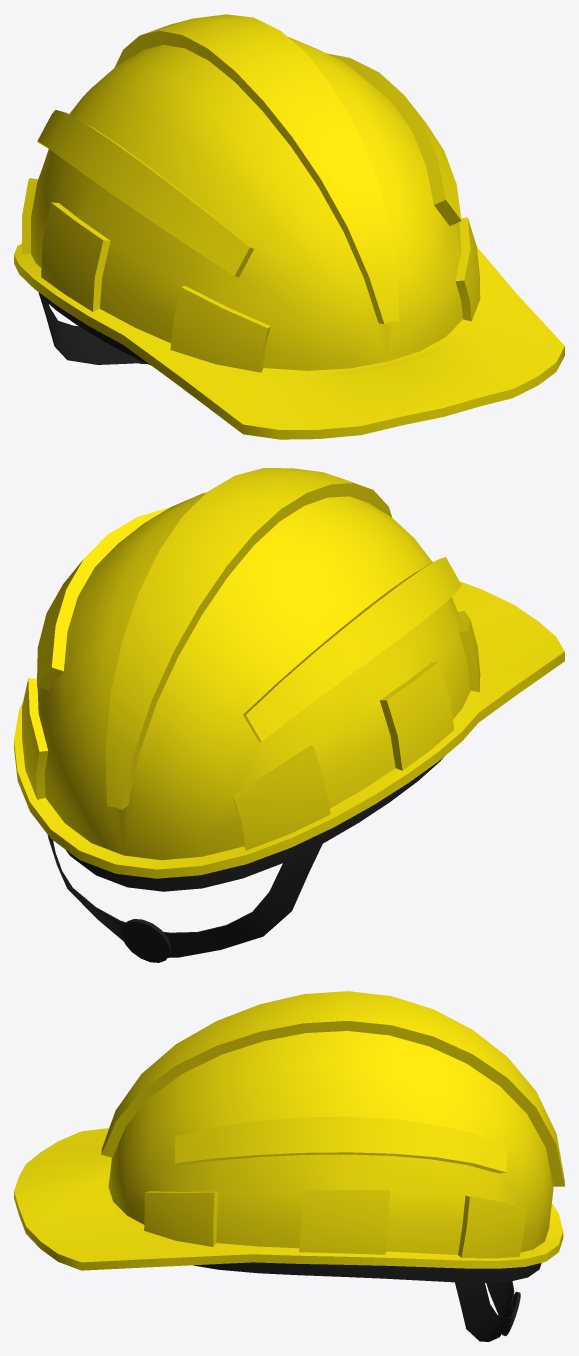
The model's file is CascoCompleto.FBX.
3 views of the same model, one above another, from view 1: azimuth 30°, elevation 25°; view 2: azimuth 150°, elevation 25°; view 3: azimuth 270°, elevation 25° (orthographic). The views are drawn at different scales.
Visible parts, largest first — view 1: casco, correa; view 2: casco, correa; view 3: casco, correa.
Boxes of the visible parts, x1,y1,x2,y2 form: casco: (14,14,564,439); correa: (38,292,150,365); casco: (14,468,564,878); correa: (47,756,444,962); casco: (14,991,564,1270); correa: (193,1262,541,1341).
Bounding box in the file's own units: 20.47 × 20.36 × 30.64.
